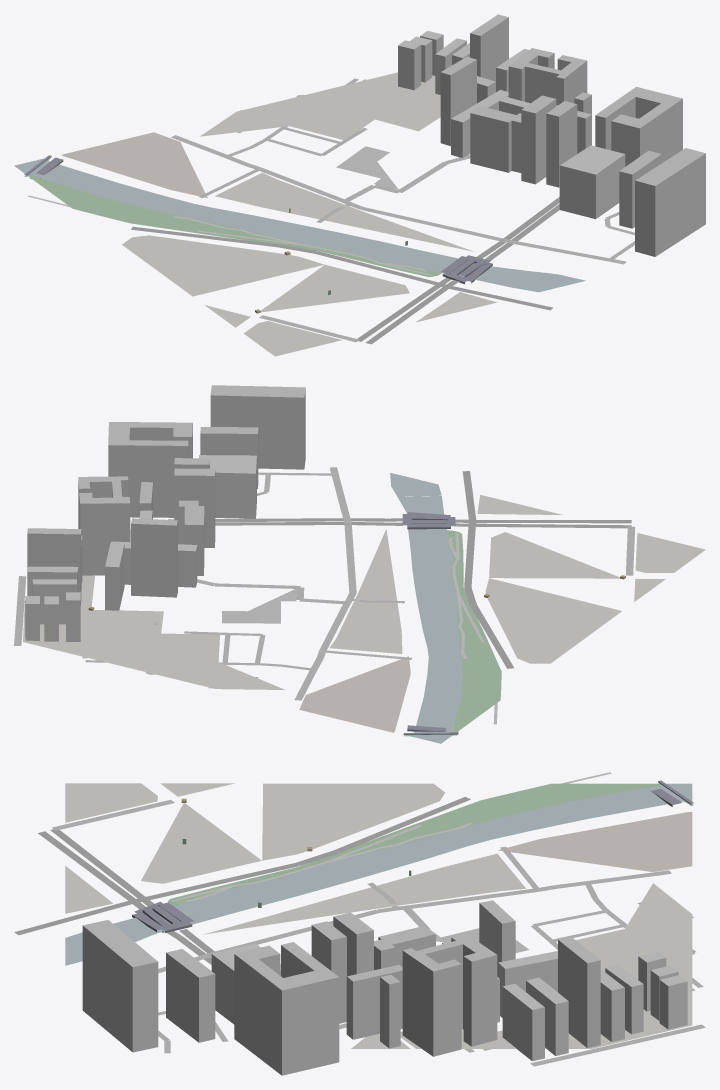
3 renders of one model, top to bottom at view 1: azimuth 30°, elevation 25°; view 2: azimuth 150°, elevation 25°; view 3: azimuth 270°, elevation 25°, orthographic. The views are drawn at different scales.
Size of the model in its own units: 574 by 77.62 by 552.
